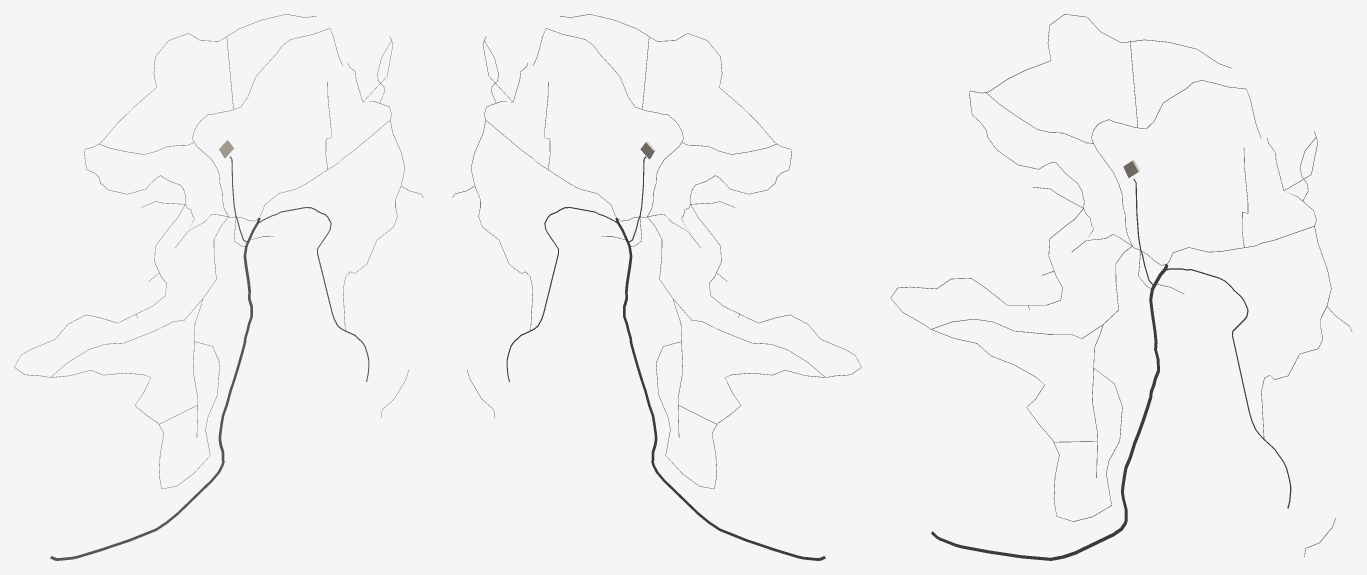
File: historic-palestine-08_19_3503_3133.glb
3 renders of one model, left to right at view 1: azimuth 30°, elevation 25°; view 2: azimuth 150°, elevation 25°; view 3: azimuth 330°, elevation 25°, orthographic. The views are drawn at different scales.
Visible parts, largest first — view 1: Road 316, Road .003; view 2: Road 316, Road .003; view 3: Road 316, Road .003, Road .007, Road .002.
Boxes of the visible parts, x1=… form: Road 316: x1=50, y1=243, x2=252, y2=560; Road .003: x1=14, y1=175, x2=228, y2=377; Road 316: x1=623, y1=243, x2=825, y2=560; Road .003: x1=647, y1=175, x2=861, y2=377; Road 316: x1=931, y1=285, x2=1159, y2=560; Road .003: x1=890, y1=162, x2=1131, y2=338; Road .007: x1=1164, y1=268, x2=1291, y2=508; Road .002: x1=931, y1=324, x2=1122, y2=521.
Bounding box in the file's own units: 1226 × 1425 × 8.7.
